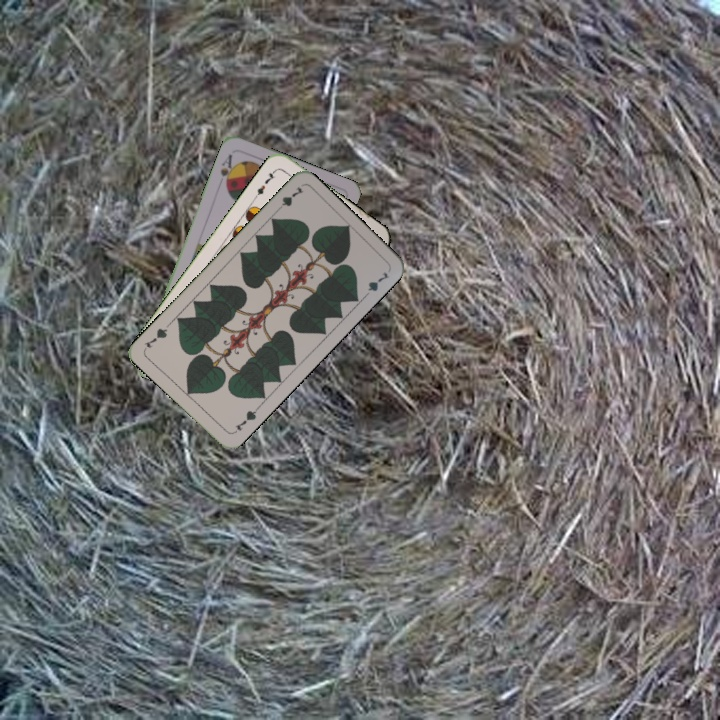E7: (250, 165, 279, 200)
G7: (271, 182, 306, 215), (229, 403, 261, 436)
SA: (216, 150, 238, 190)
